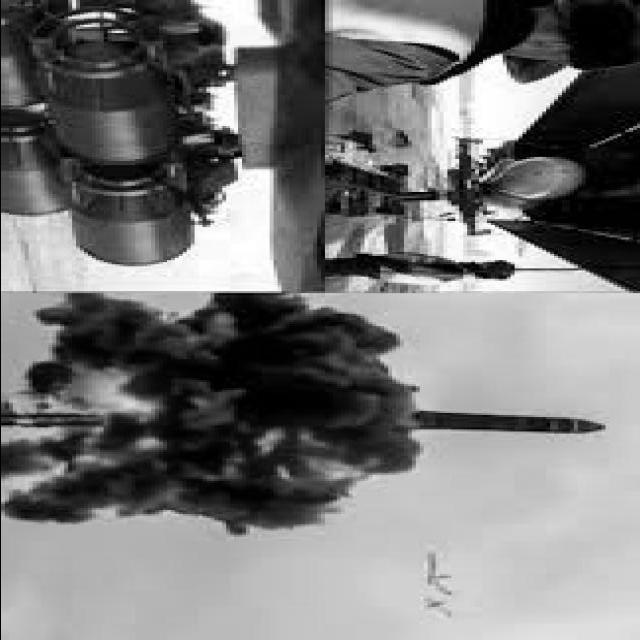Missile: (403, 406, 608, 442)
